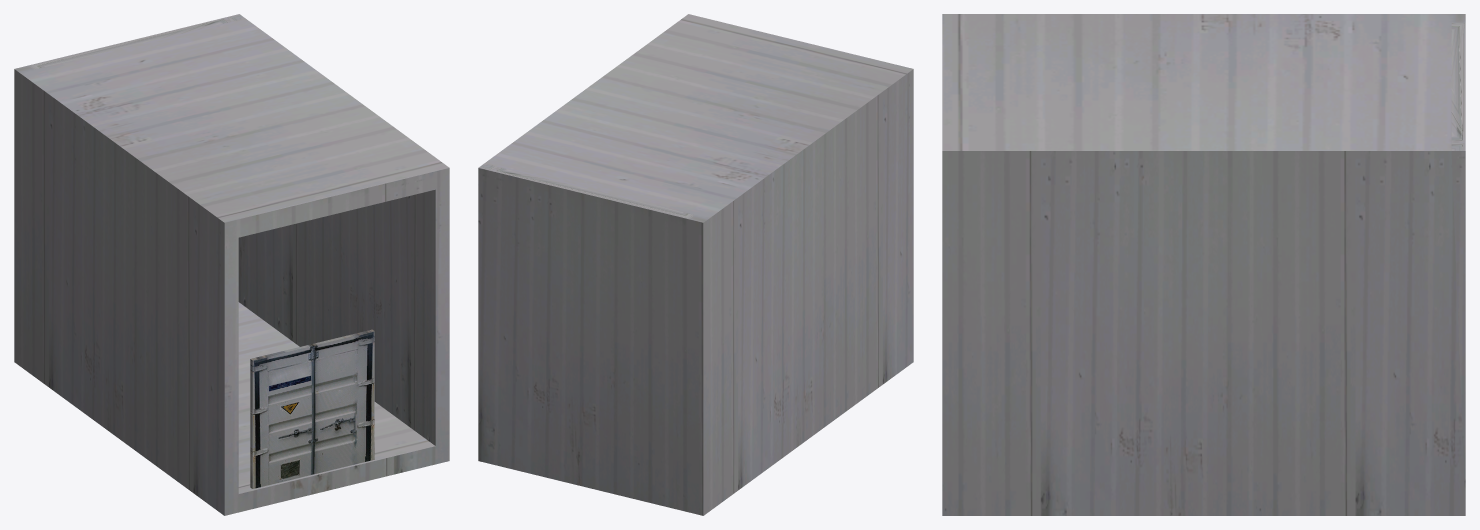
The model's file is entity_shippingcrate.glb.
3 views of the same model, side by side, from view 1: azimuth 30°, elevation 25°; view 2: azimuth 150°, elevation 25°; view 3: azimuth 270°, elevation 25° (orthographic). The views are drawn at different scales.
Parts seen in each view (by area): view 1: Cube, ShippingContainer_0013; view 2: Cube; view 3: Cube.
Part boxes in pixels (box(x1,y1,x2,y2)): Cube: box(14, 14, 449, 515); ShippingContainer_0013: box(250, 329, 374, 488); Cube: box(478, 14, 913, 515); Cube: box(942, 14, 1465, 515).
Bounding box in the file's own units: 9.98 × 12.41 × 16.13.
Materials: 2 (2 with a texture image).
